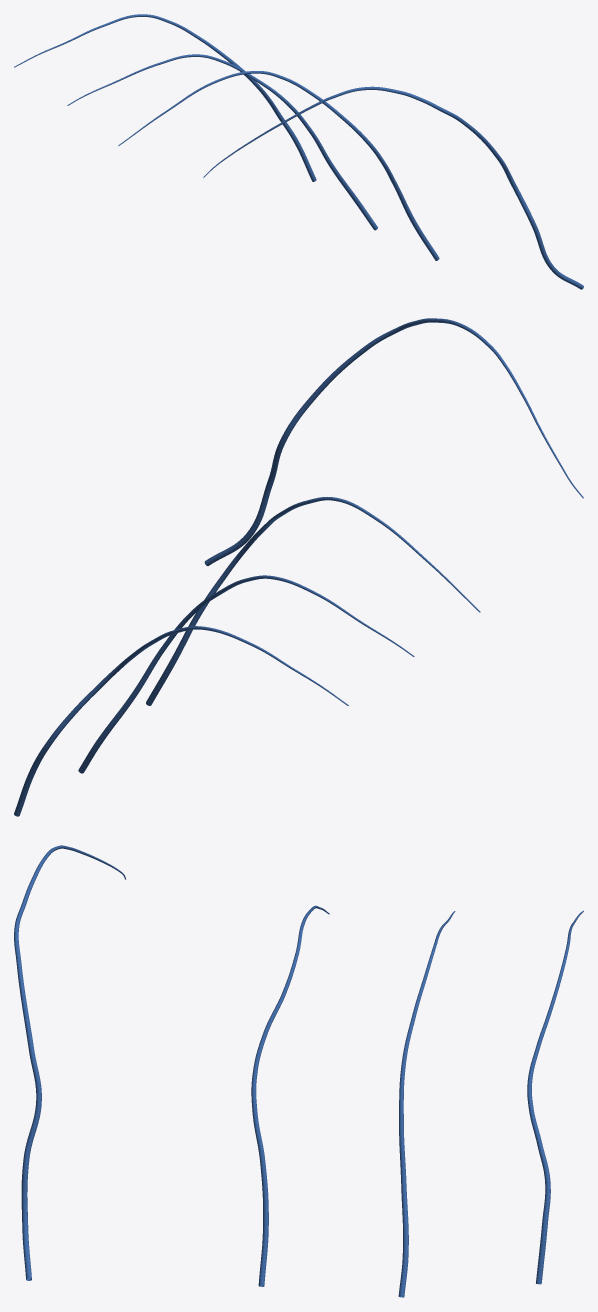
3 renders of one model, top to bottom at view 1: azimuth 30°, elevation 25°; view 2: azimuth 150°, elevation 25°; view 3: azimuth 270°, elevation 25°, orthographic. The views are drawn at different scales.
Parts seen in each view (by area): view 1: 右侧腰静脉; view 2: 右侧腰静脉; view 3: 右侧腰静脉.
Boxes of the visible parts, left/top/right/bottom form: 右侧腰静脉: left=14, top=14, right=583, bottom=289; 右侧腰静脉: left=14, top=318, right=583, bottom=816; 右侧腰静脉: left=14, top=845, right=583, bottom=1297.
Bounding box in the file's own units: 0.1179 × 0.0947 × 0.1398.
